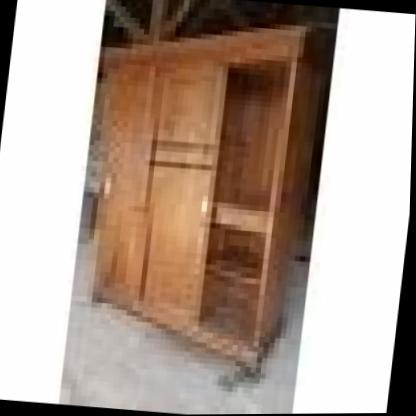Closet: (79, 9, 332, 381)
